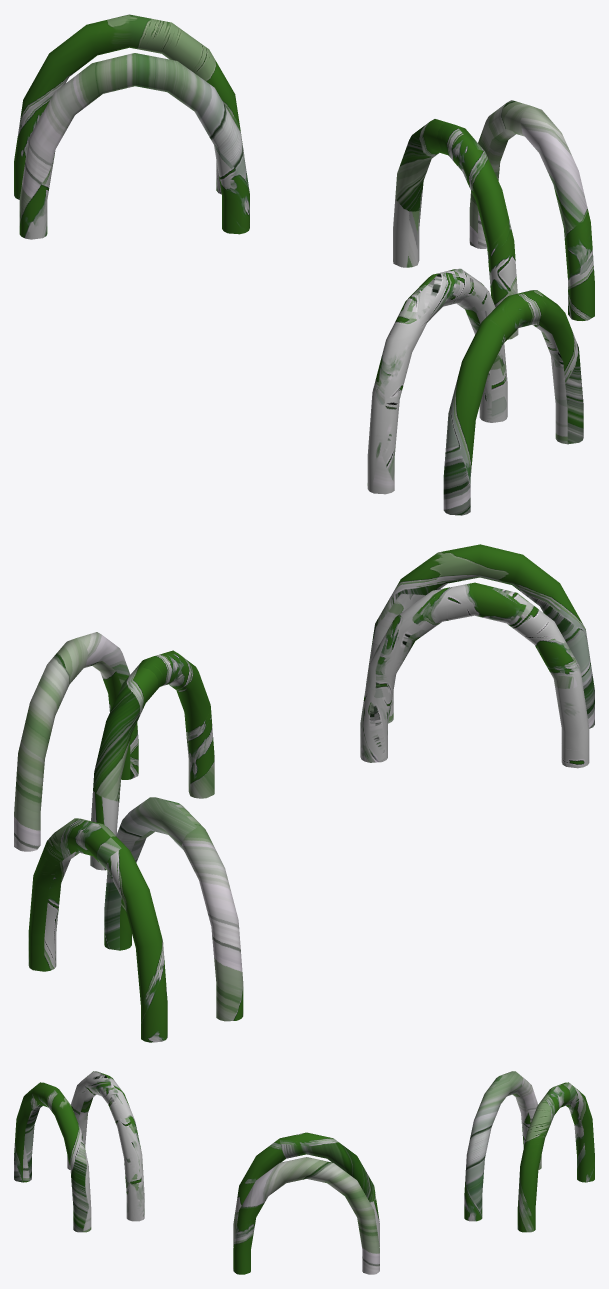
File: doorTUNNEL.fbx
The picture shows the model from 3 angles, top to bottom: view 1: azimuth 30°, elevation 25°; view 2: azimuth 150°, elevation 25°; view 3: azimuth 270°, elevation 25°; orthographic projection. The views are drawn at different scales.
Visible parts, largest first — view 1: Cylinder.041; view 2: Cylinder.041; view 3: Cylinder.041.
Part boxes in pixels (left/top/right/bottom): Cylinder.041: left=14, top=14, right=594, bottom=515; Cylinder.041: left=14, top=544, right=594, bottom=1042; Cylinder.041: left=14, top=1071, right=594, bottom=1274.
Bounding box in the file's own units: 2656 × 1291 × 5819.
